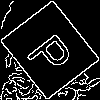P: (25, 25, 82, 81)
